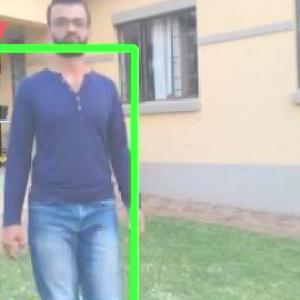follow: (21, 0, 128, 299)
